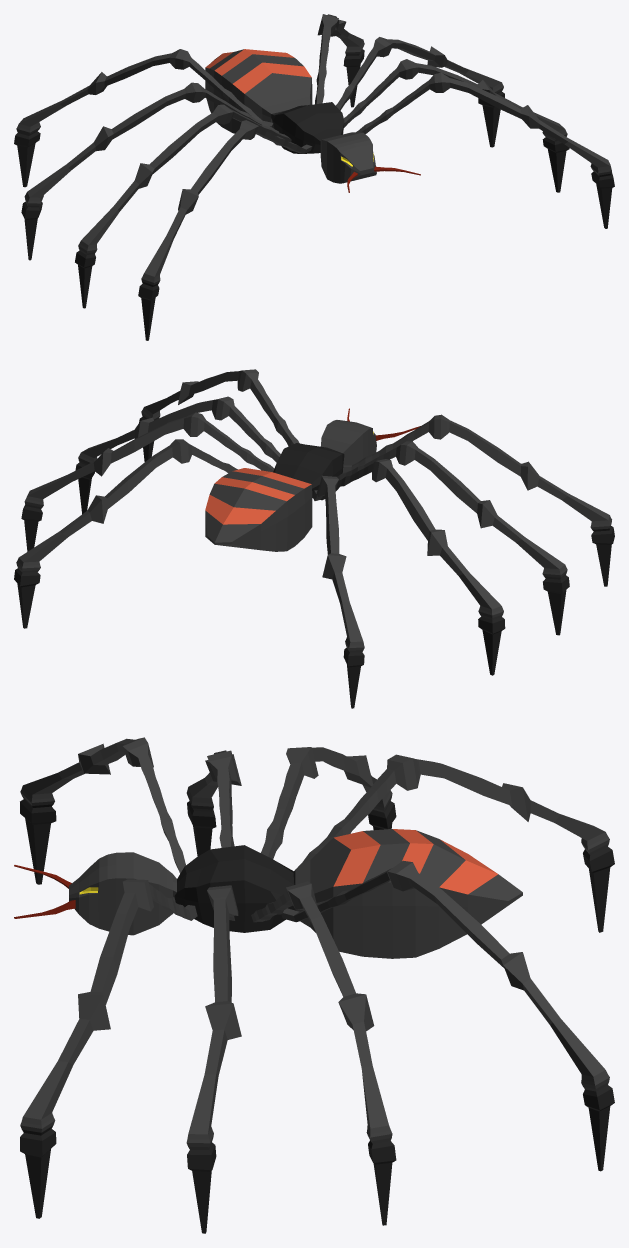
File: spider.glb
The picture shows the model from 3 angles, top to bottom: view 1: azimuth 30°, elevation 25°; view 2: azimuth 150°, elevation 25°; view 3: azimuth 270°, elevation 25°; orthographic projection. The views are drawn at different scales.
Parts seen in each view (by area): view 1: Cube; view 2: Cube; view 3: Cube.
Part boxes in pixels (bbox=[...]): Cube: bbox=[14, 14, 614, 340]; Cube: bbox=[14, 369, 614, 708]; Cube: bbox=[14, 737, 614, 1233].
Bounding box in the file's own units: 13.15 × 4.32 × 9.4.
Materials: 1 (1 with a texture image).
